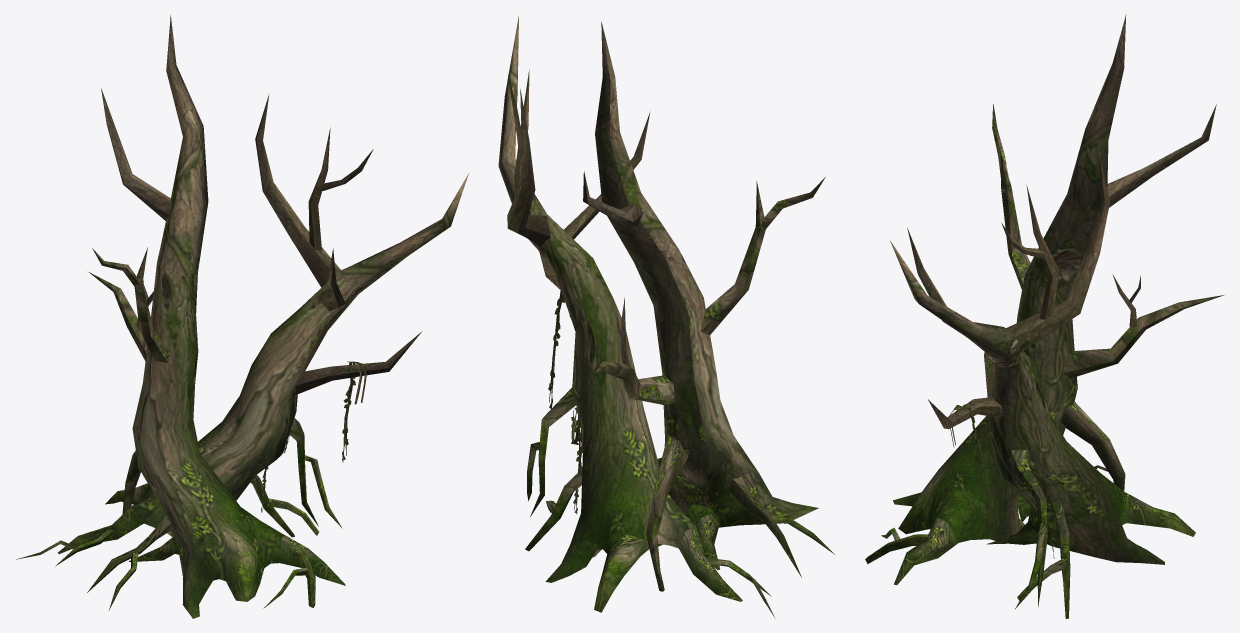
Rendered from 2014_Item_shu_3.FBX.
3 renders of one model, left to right at view 1: azimuth 30°, elevation 25°; view 2: azimuth 150°, elevation 25°; view 3: azimuth 270°, elevation 25°, orthographic. The views are drawn at different scales.
Visible parts, largest first — view 1: 2014_Item_shu_3; view 2: 2014_Item_shu_3; view 3: 2014_Item_shu_3.
Part boxes in pixels (x1,y1,x2,y2): 2014_Item_shu_3: [16, 15, 468, 618]; 2014_Item_shu_3: [498, 16, 834, 618]; 2014_Item_shu_3: [865, 14, 1224, 618].
Size of the model in its own units: 2122 by 3099 by 1822.
